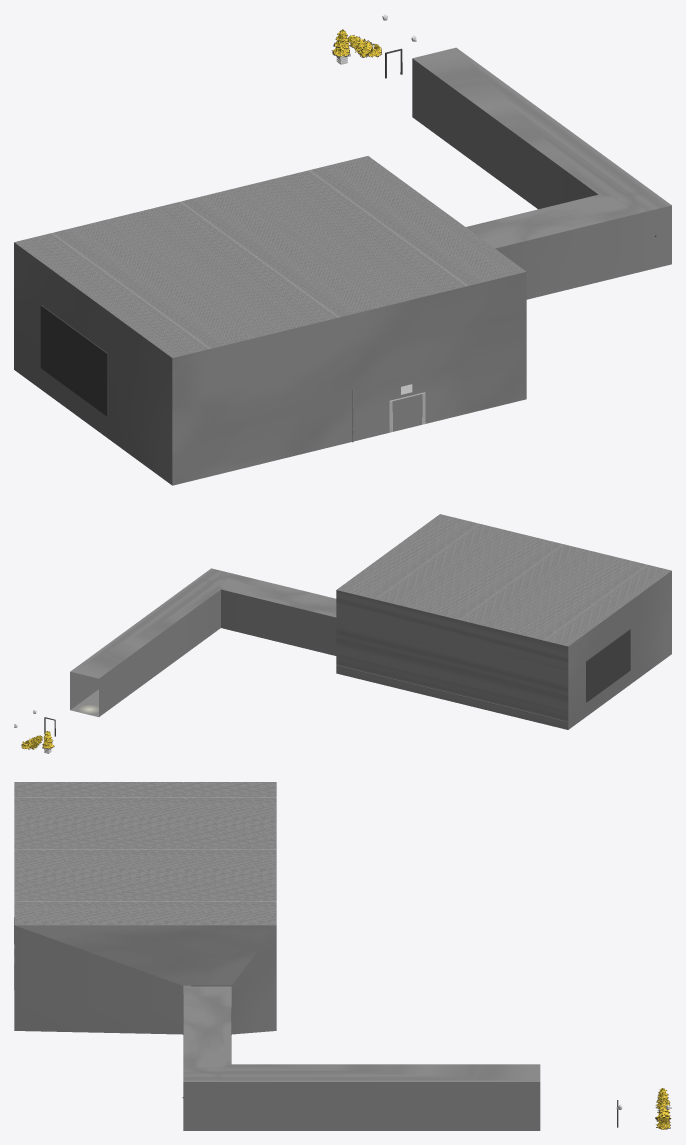
Rendered from below.glb.
3 views of the same model, one above another, from view 1: azimuth 30°, elevation 25°; view 2: azimuth 150°, elevation 25°; view 3: azimuth 270°, elevation 25° (orthographic). The views are drawn at different scales.
Visible parts, largest first — view 1: Corridors.Below, bigscreen; view 2: Corridors.Below, bigscreen; view 3: Corridors.Below.
Part boxes in pixels (<box>): Corridors.Below: <box>14,47,671,485</box>; bigscreen: <box>40,305,108,416</box>; Corridors.Below: <box>70,514,671,729</box>; bigscreen: <box>586,629,630,702</box>; Corridors.Below: <box>14,782,540,1130</box>.
Bounding box in the file's own units: 110 × 22.53 × 124.
Materials: 9 (8 with a texture image).
